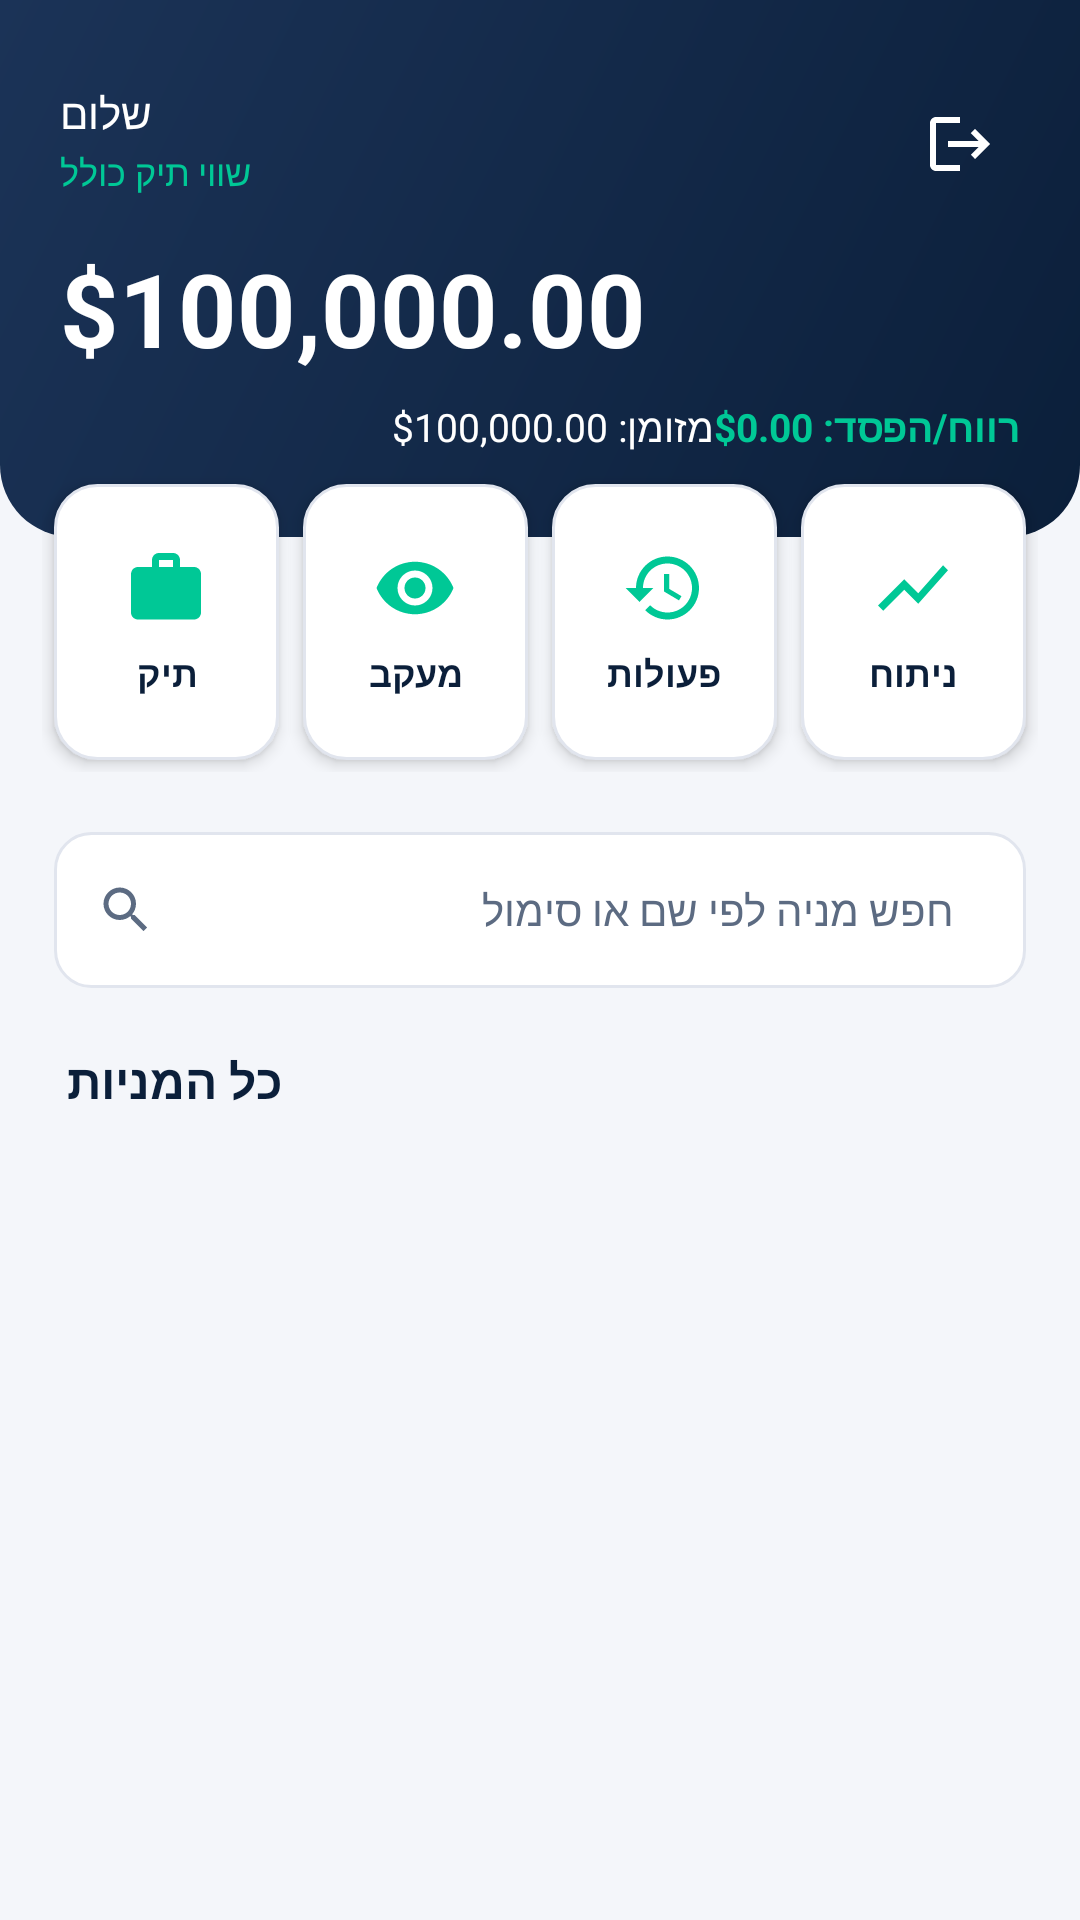

Point at icon controls on the screen. Image size 1080×1920, points as point (x, y).
history: point (662, 588)
search: point (125, 909)
